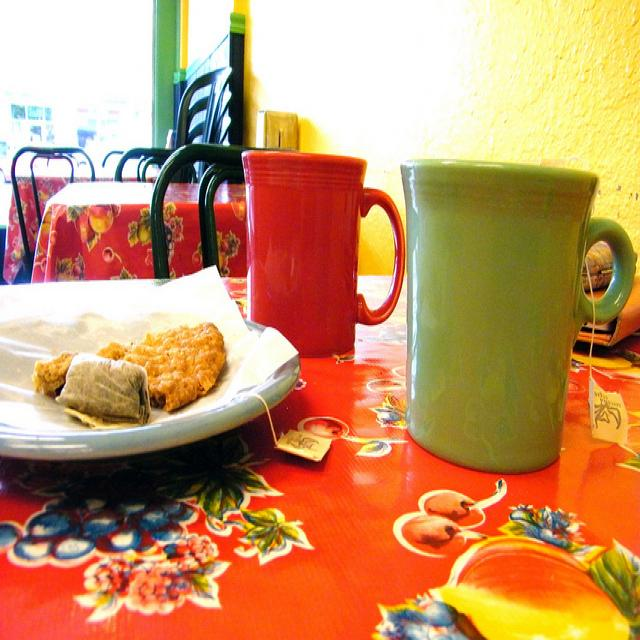chair: (151, 143, 297, 277), (113, 65, 233, 182), (10, 147, 96, 290), (170, 163, 197, 183)
dining table: (0, 146, 640, 640), (29, 179, 251, 279)
